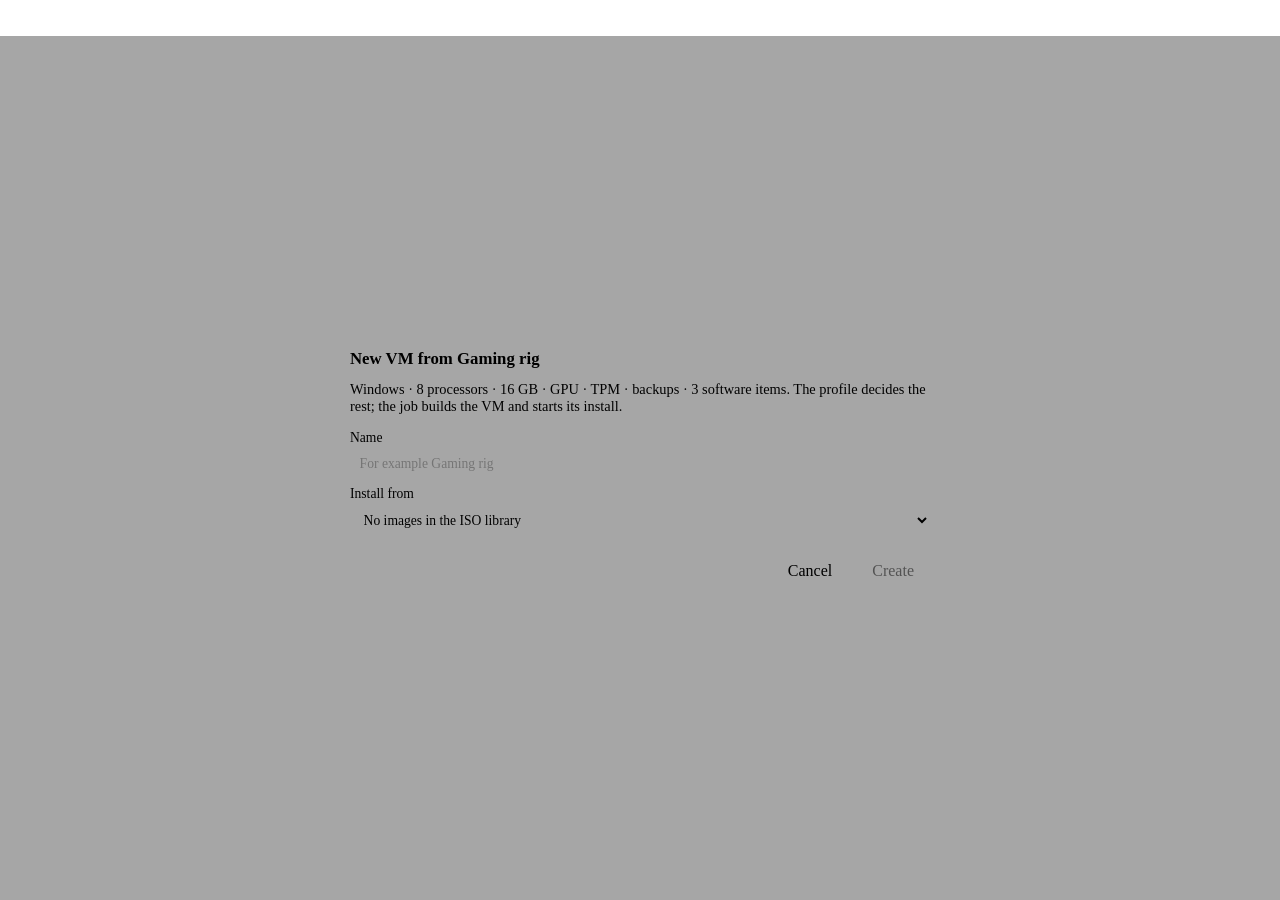
it: CreateVmFromProfileDialog › shows the host's warnings and creates anyway when asked
The width and height of the screenshot is (1280, 900).
Type "Rig" into the field labelled "Name".
click(640, 464); type("Rig")  # box [350,449,930,479]
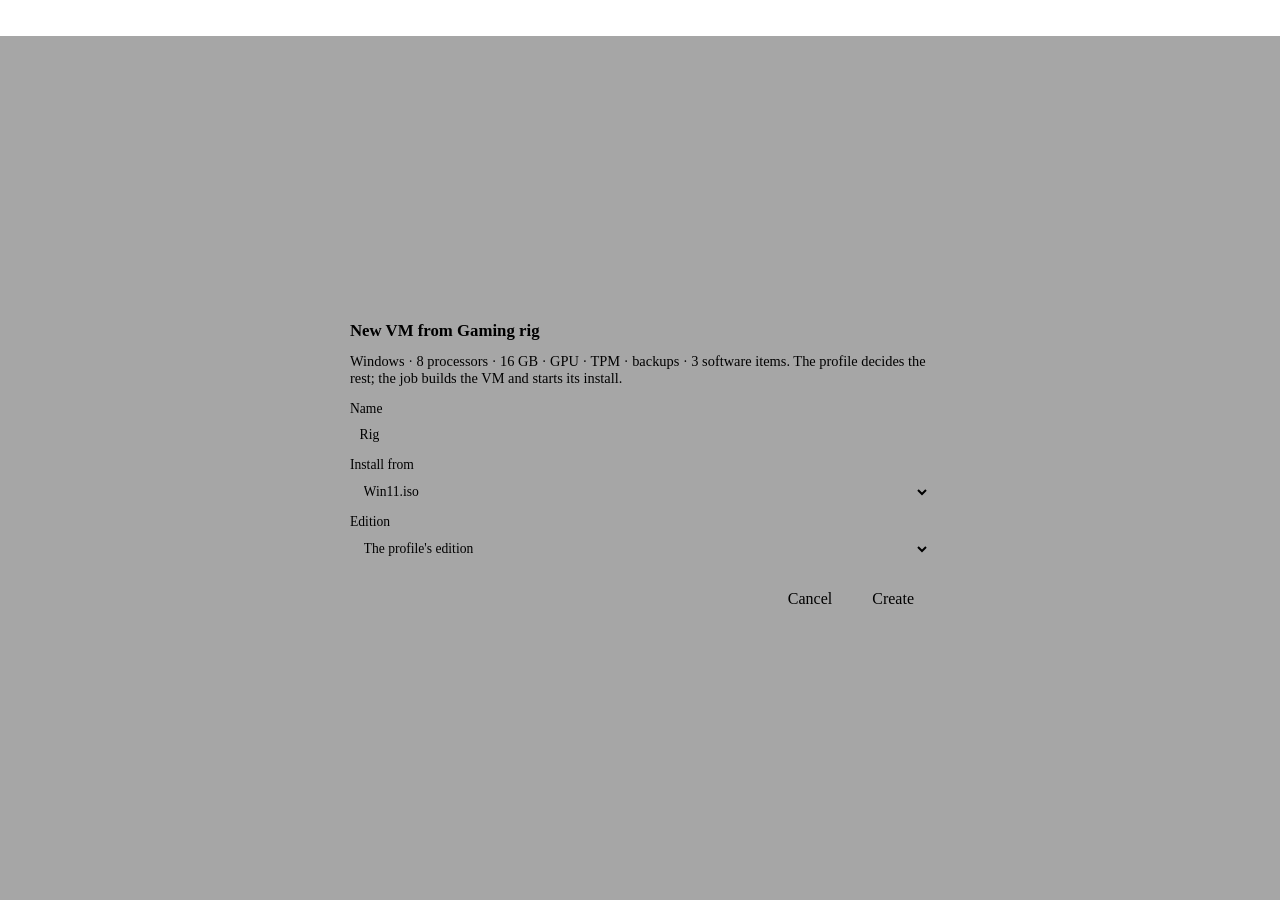
Expected: the dropdown labelled "Edition" is shown, [350,533,930,565]
Click the button "Create".
click(893, 599)  # box [856,583,930,615]
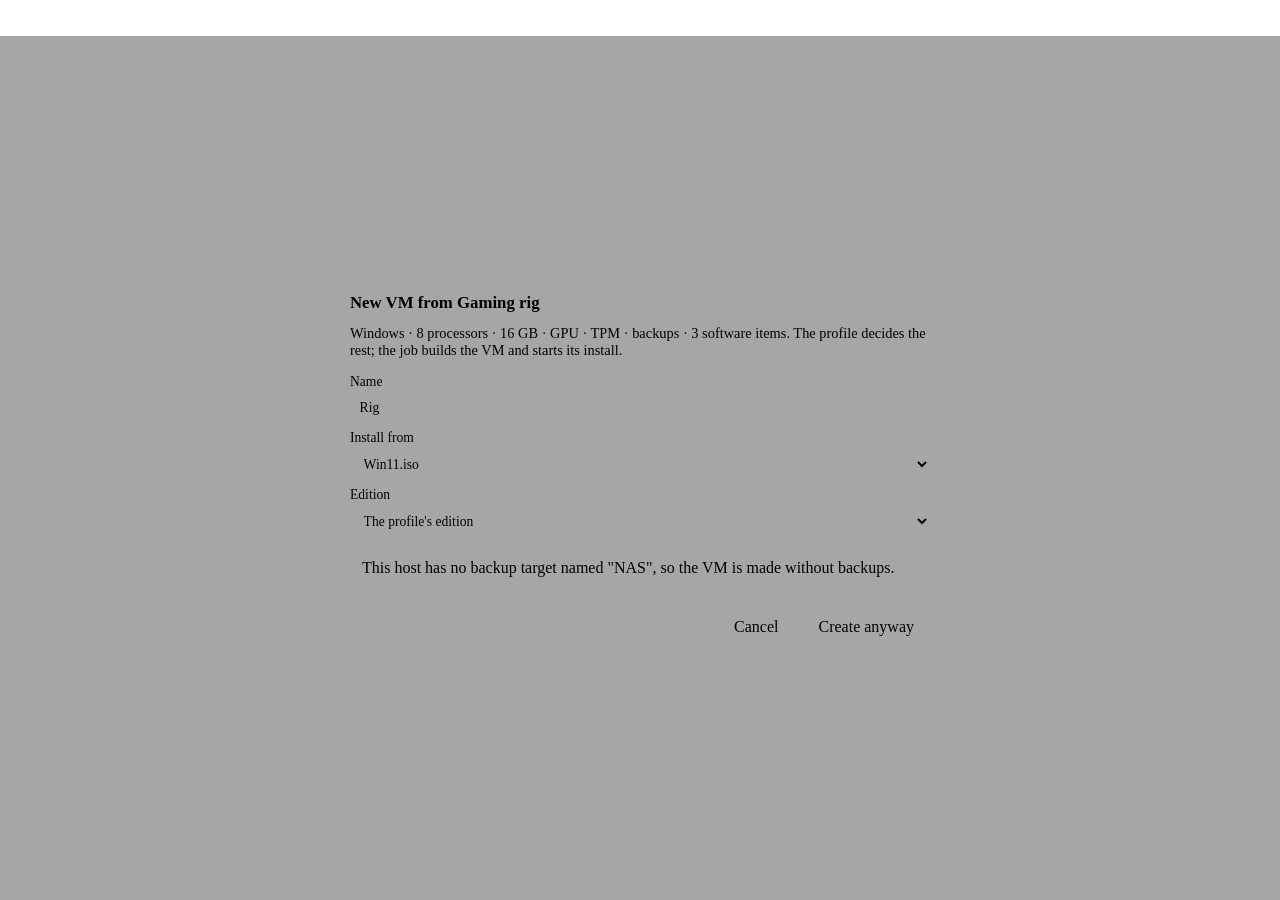
Expected: the text "no backup target named \"NAS\"" is shown, [362,559,894,576]
Click the button "Create anyway".
click(866, 626)  # box [802,610,930,643]
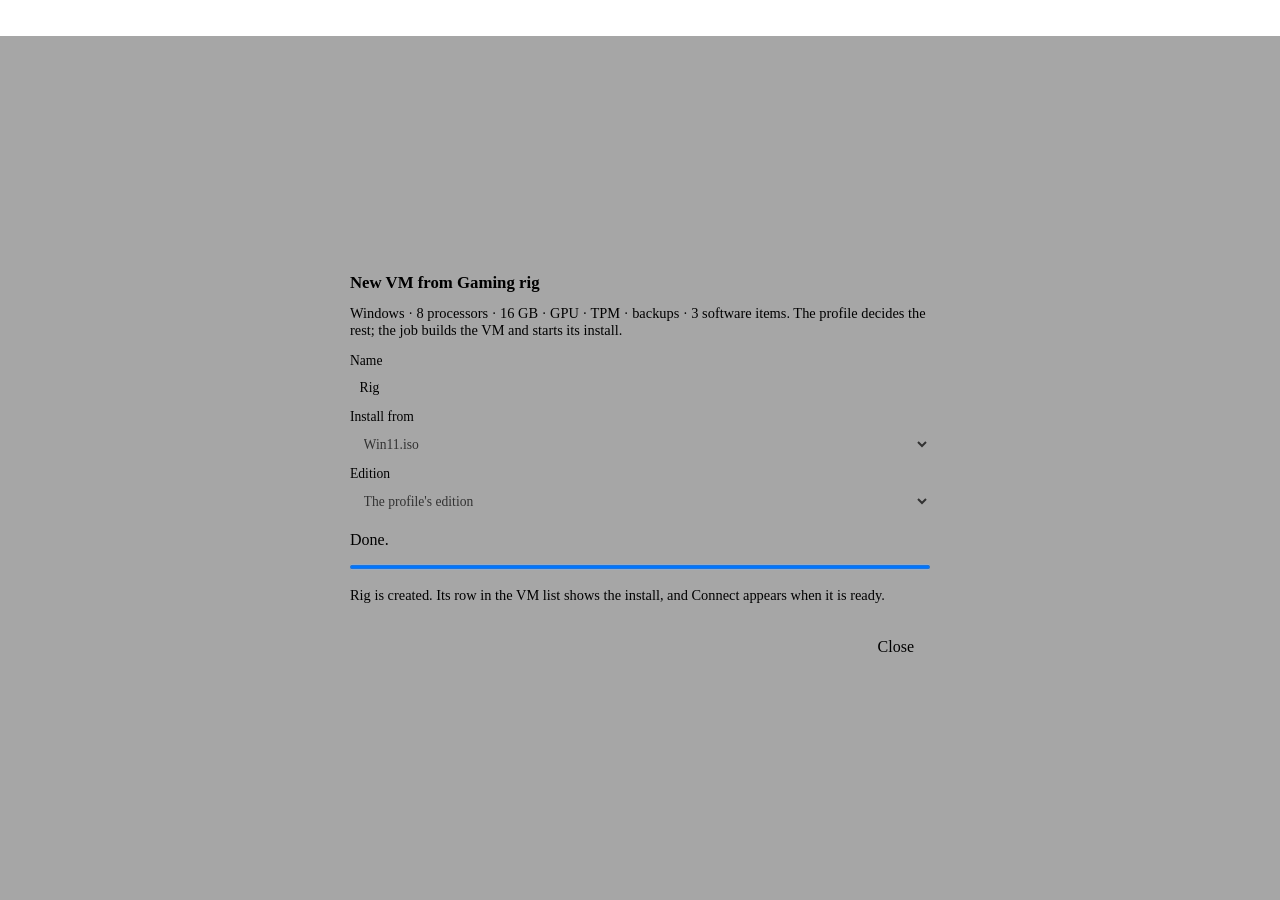
Expected: the text "Rig is created" is shown, [350,587,885,603]
